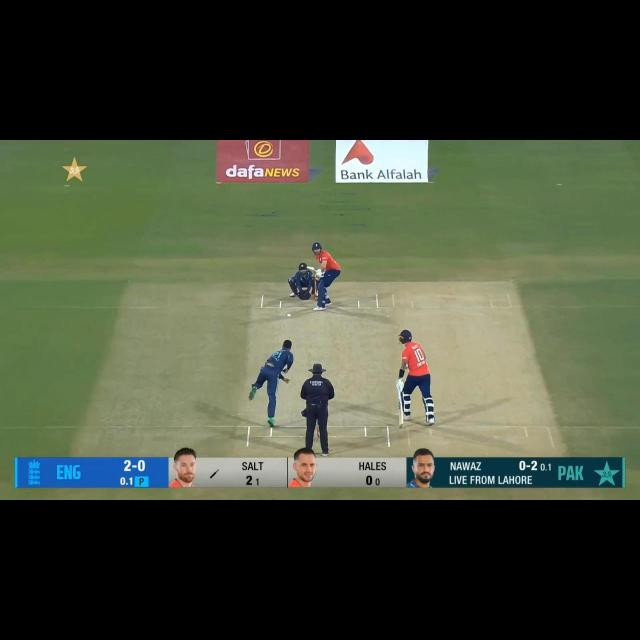bat: (395, 396, 407, 431), (306, 264, 318, 274)
toe: (398, 418, 404, 429), (306, 266, 310, 270)
